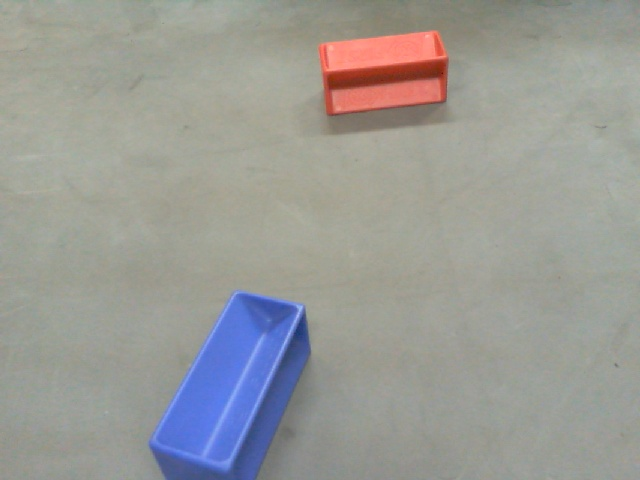BlueSample: (146, 289, 313, 480)
RedSample: (314, 28, 458, 118)
